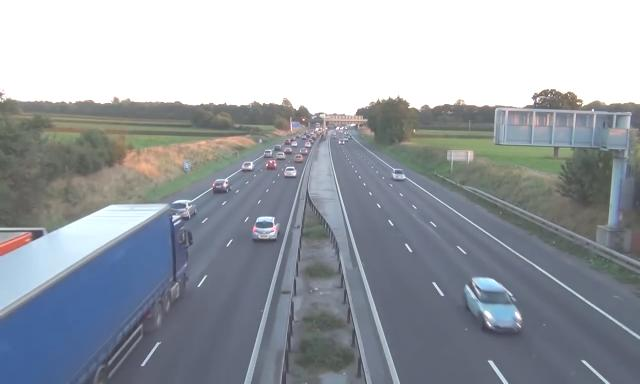caminhaog: (0, 202, 194, 384), (0, 225, 49, 259)
carro: (463, 277, 526, 335), (250, 216, 283, 246), (168, 200, 198, 219), (212, 179, 232, 195), (392, 168, 406, 182), (284, 167, 298, 178), (241, 162, 255, 172), (266, 160, 277, 169), (264, 149, 274, 158), (294, 154, 303, 163), (276, 152, 286, 160), (273, 144, 282, 152), (299, 148, 308, 156), (284, 147, 292, 155), (284, 138, 291, 146), (291, 141, 298, 148), (338, 139, 345, 145), (304, 142, 311, 148), (307, 138, 314, 144), (290, 136, 296, 142), (343, 136, 348, 142), (348, 134, 353, 140), (295, 134, 300, 140), (301, 136, 307, 140), (332, 134, 336, 139)
